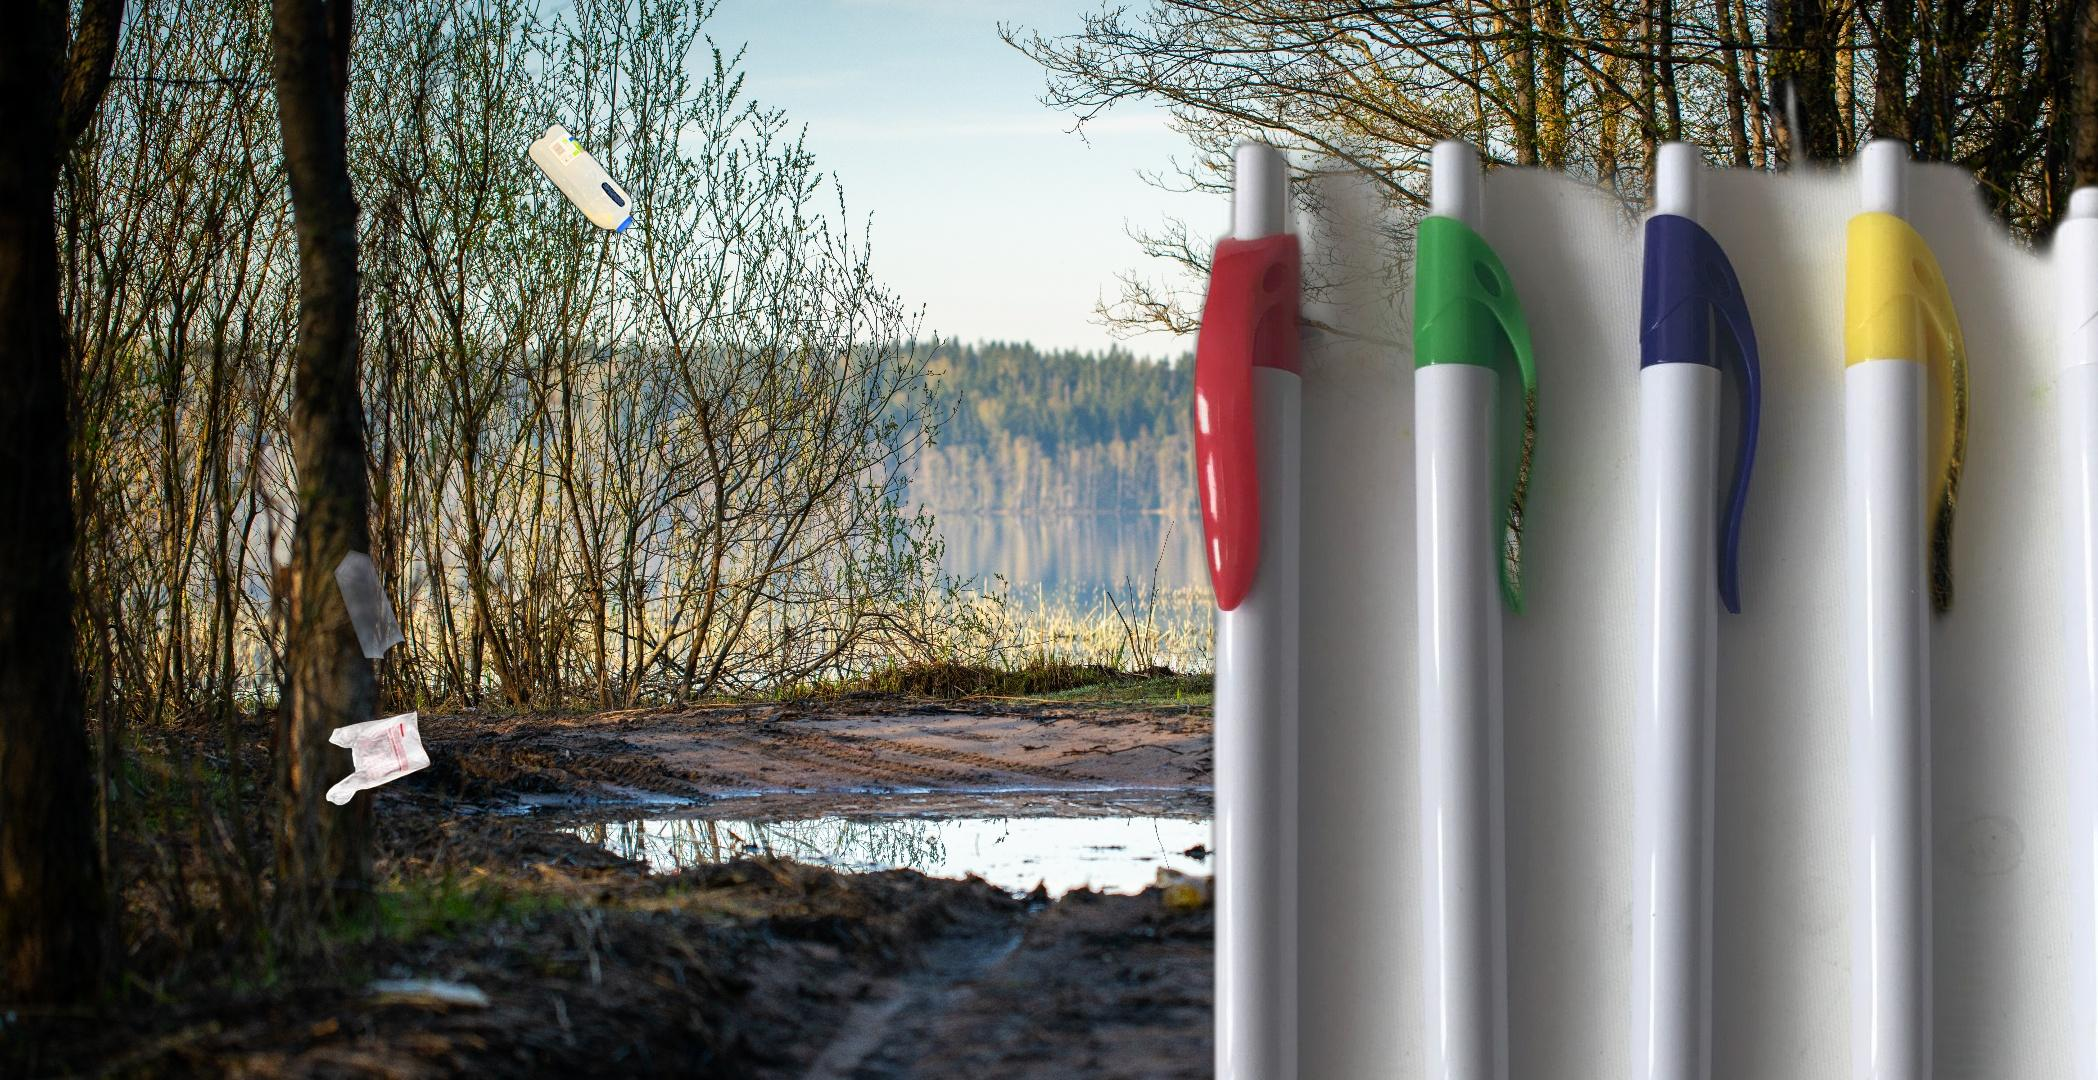clothes: (1765, 712, 2080, 1080)
penholder: (1181, 50, 2098, 1080)
plastic-bag: (322, 546, 434, 809)
plastic-bottles: (523, 117, 638, 238)
